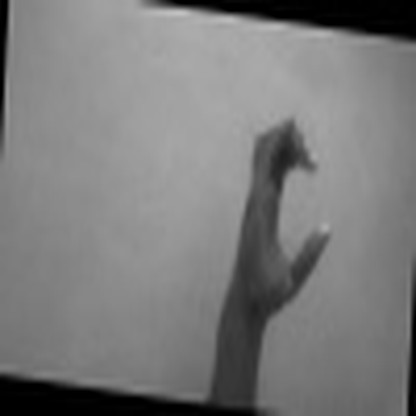c: (238, 112, 337, 312)
